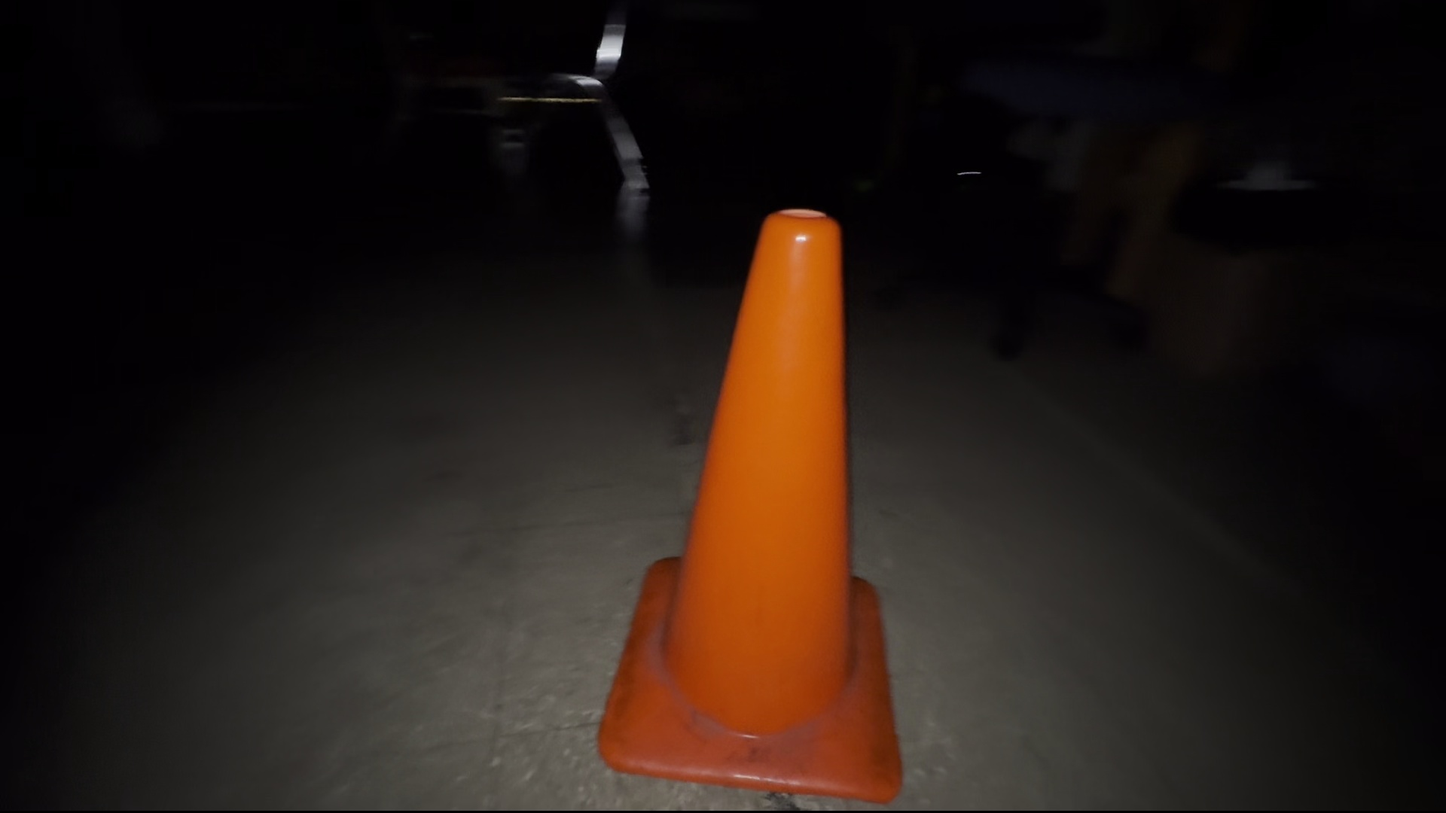traffic_cone: (596, 206, 904, 803)
